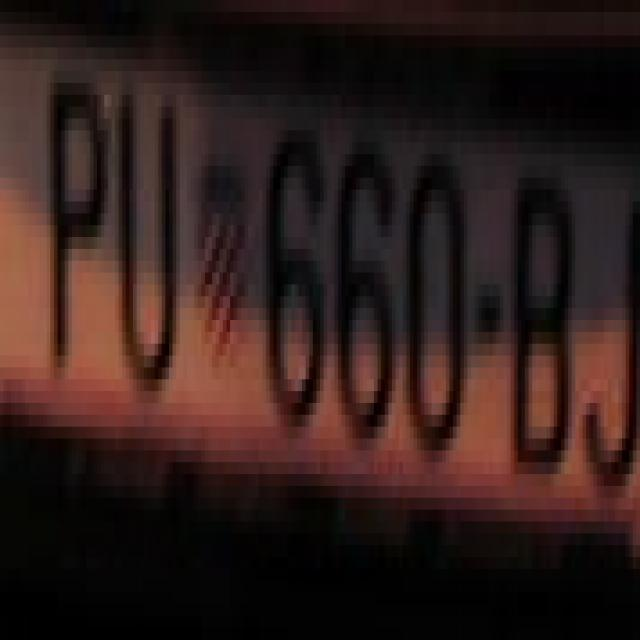0: (406, 154, 464, 474)
6: (255, 94, 327, 450), (334, 119, 399, 462)
B: (507, 155, 572, 510)
P: (46, 48, 112, 392)
U: (111, 71, 180, 415)
